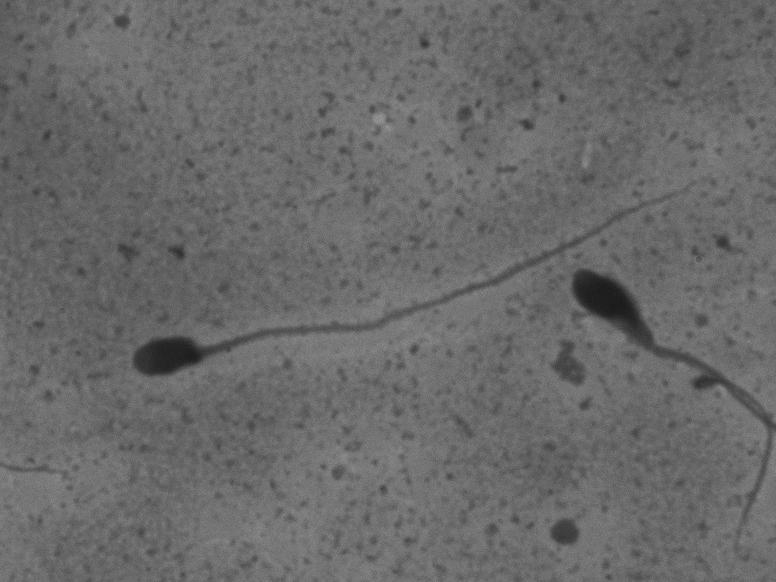Abnormal: (117, 161, 713, 392), (529, 252, 736, 404)
